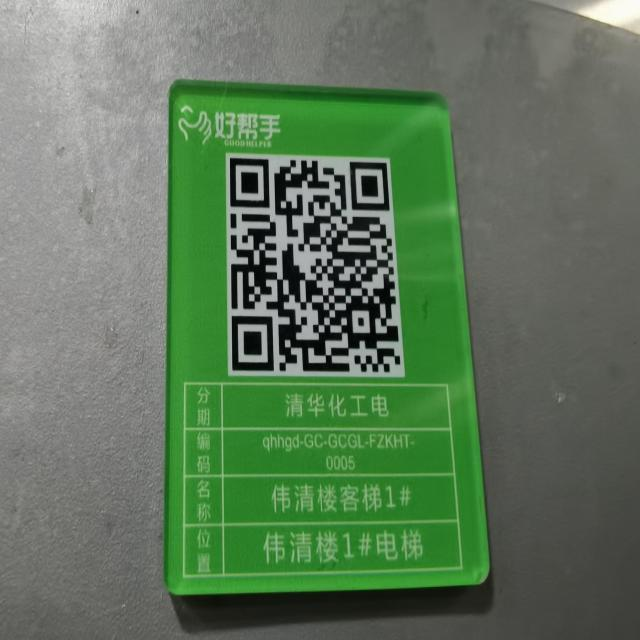qr_code: (229, 157, 401, 373)
